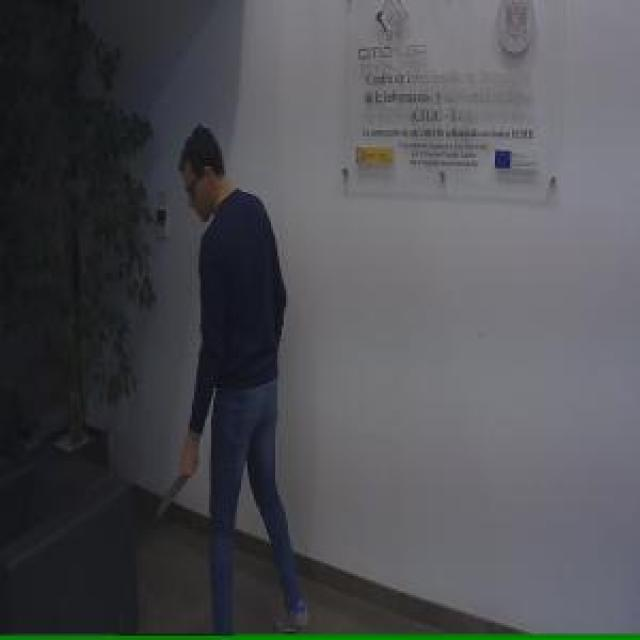knife: (154, 461, 195, 522)
